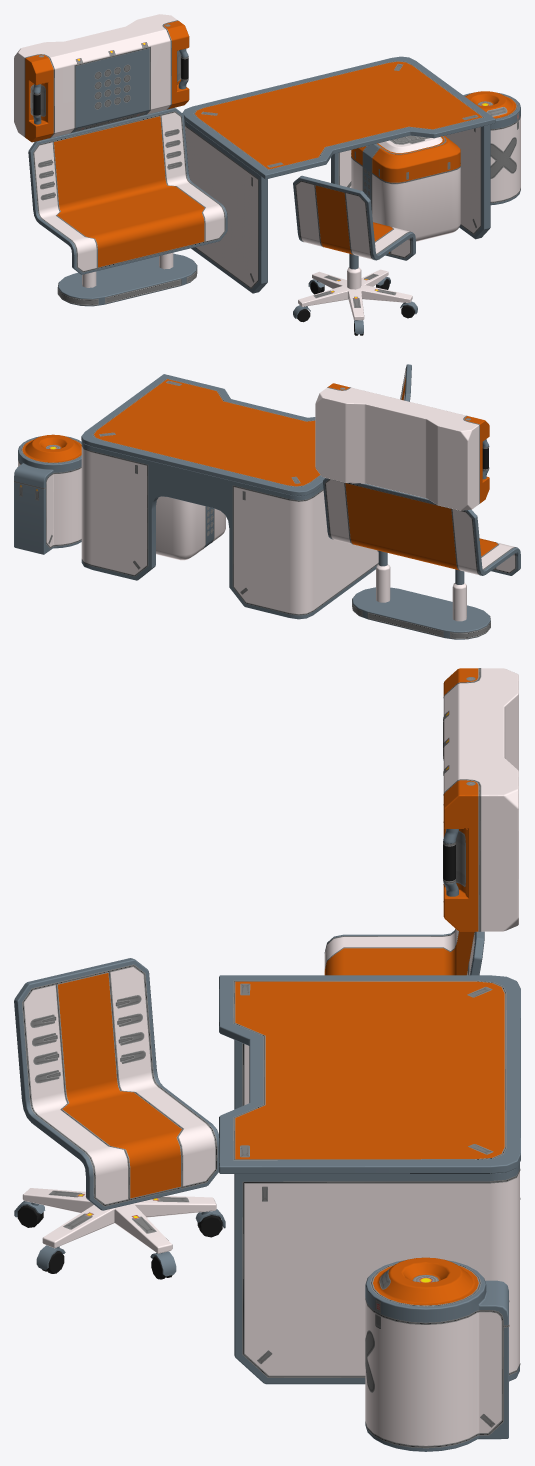
The picture shows the model from 3 angles, top to bottom: view 1: azimuth 30°, elevation 25°; view 2: azimuth 150°, elevation 25°; view 3: azimuth 270°, elevation 25°; orthographic projection. The views are drawn at different scales.
Parts seen in each view (by area): view 1: Table001, Chair003, Container002, Chair001, Container001, Chair003_d, Container003, Container002_d, Table001_d, Container003_d, Chair001_d, Container001_d; view 2: Table001, Container002, Chair003, Container003, Container001, Table001_d, Chair003_d, Container003_d; view 3: Table001, Chair001, Container003, Container002, Chair003, Chair001_d, Table001_d, Container003_d, Container002_d.
Part boxes in pixels (bbox=[...]): Table001: bbox=[182, 56, 495, 293]; Chair003: bbox=[28, 107, 227, 306]; Container002: bbox=[14, 14, 189, 142]; Chair001: bbox=[293, 175, 417, 335]; Container001: bbox=[351, 136, 460, 241]; Chair003_d: bbox=[33, 111, 225, 305]; Container003: bbox=[463, 91, 520, 205]; Container002_d: bbox=[24, 20, 188, 137]; Table001_d: bbox=[184, 61, 484, 288]; Container003_d: bbox=[464, 94, 520, 202]; Chair001_d: bbox=[295, 180, 411, 307]; Container001_d: bbox=[351, 135, 460, 213]; Table001: bbox=[81, 374, 378, 619]; Container002: bbox=[315, 383, 489, 510]; Chair003: bbox=[322, 478, 520, 639]; Container003: bbox=[14, 434, 81, 554]; Container001: bbox=[156, 496, 225, 560]; Table001_d: bbox=[81, 378, 378, 615]; Chair003_d: bbox=[324, 479, 516, 639]; Container003_d: bbox=[14, 438, 81, 548]; Table001: bbox=[219, 975, 520, 1384]; Chair001: bbox=[14, 958, 225, 1279]; Container003: bbox=[365, 1257, 508, 1451]; Container002: bbox=[443, 668, 518, 931]; Chair003: bbox=[324, 929, 484, 975]; Chair001_d: bbox=[22, 964, 217, 1233]; Table001_d: bbox=[233, 980, 520, 1377]; Container003_d: bbox=[365, 1263, 509, 1448]; Container002_d: bbox=[443, 668, 481, 931].
Size of the model in its own units: 122 by 56.21 by 66.08.
